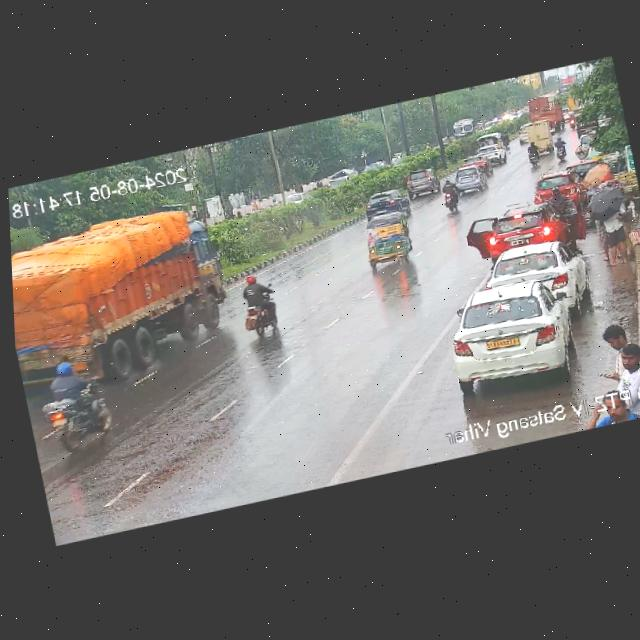car: (440, 274, 580, 395), (485, 232, 590, 313), (463, 195, 586, 262), (356, 209, 420, 271), (535, 166, 582, 205), (358, 186, 411, 219), (403, 166, 441, 199), (451, 167, 489, 195), (529, 118, 556, 156), (477, 141, 508, 166), (462, 152, 493, 176)
motorcycle: (34, 351, 121, 447), (230, 272, 285, 342), (444, 113, 487, 141), (436, 180, 465, 214), (524, 140, 545, 167), (552, 134, 568, 162), (550, 185, 565, 209), (500, 131, 510, 149)
person: (585, 177, 638, 269), (597, 318, 640, 380)
truck: (9, 196, 238, 377), (526, 93, 566, 124)
